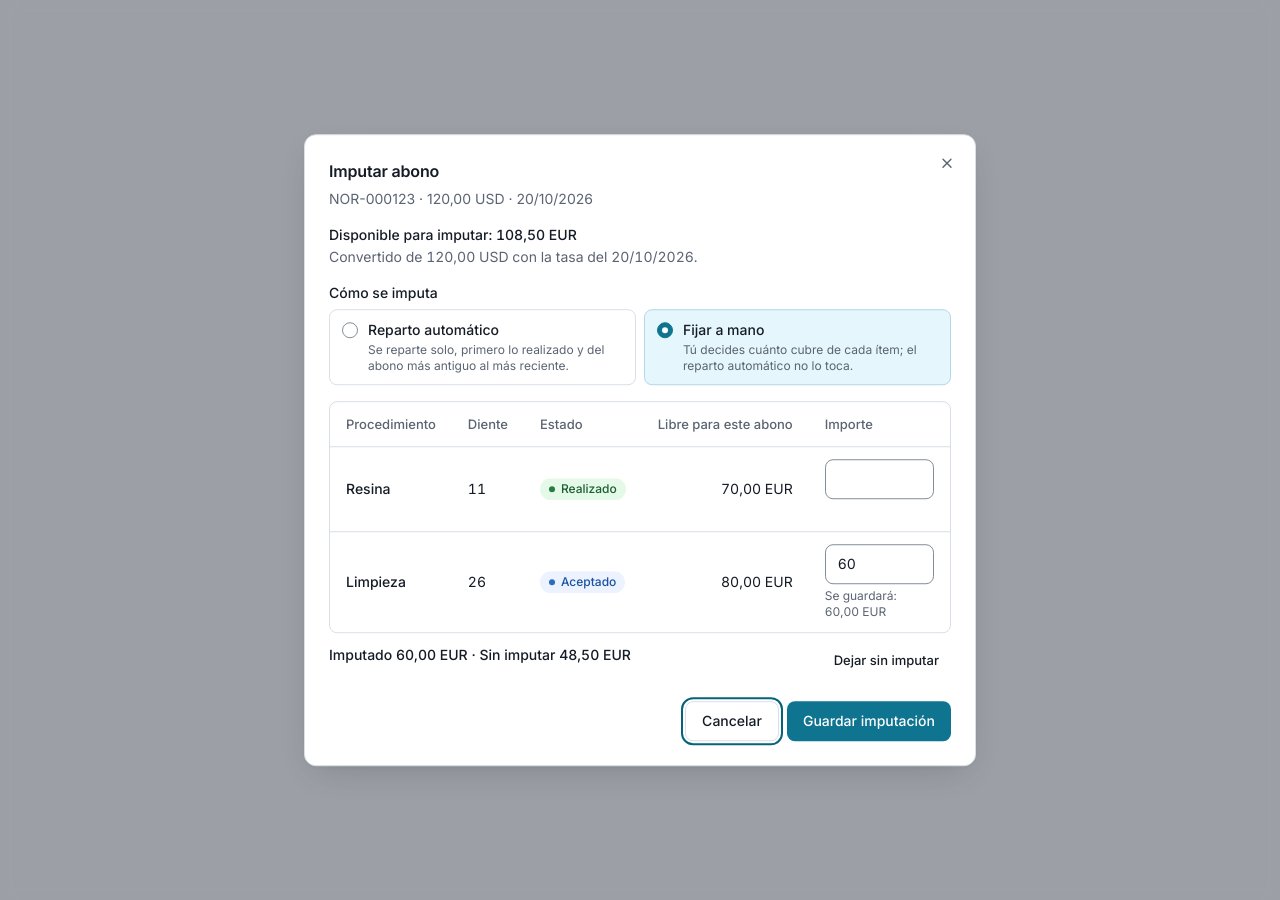
Scenario: ReallocatePaymentModal (DX-051) › a 409 whose reload brings the same allocation keeps its explanation
Click the button "Guardar imputación".
click(869, 721)  # box [787,701,951,741]
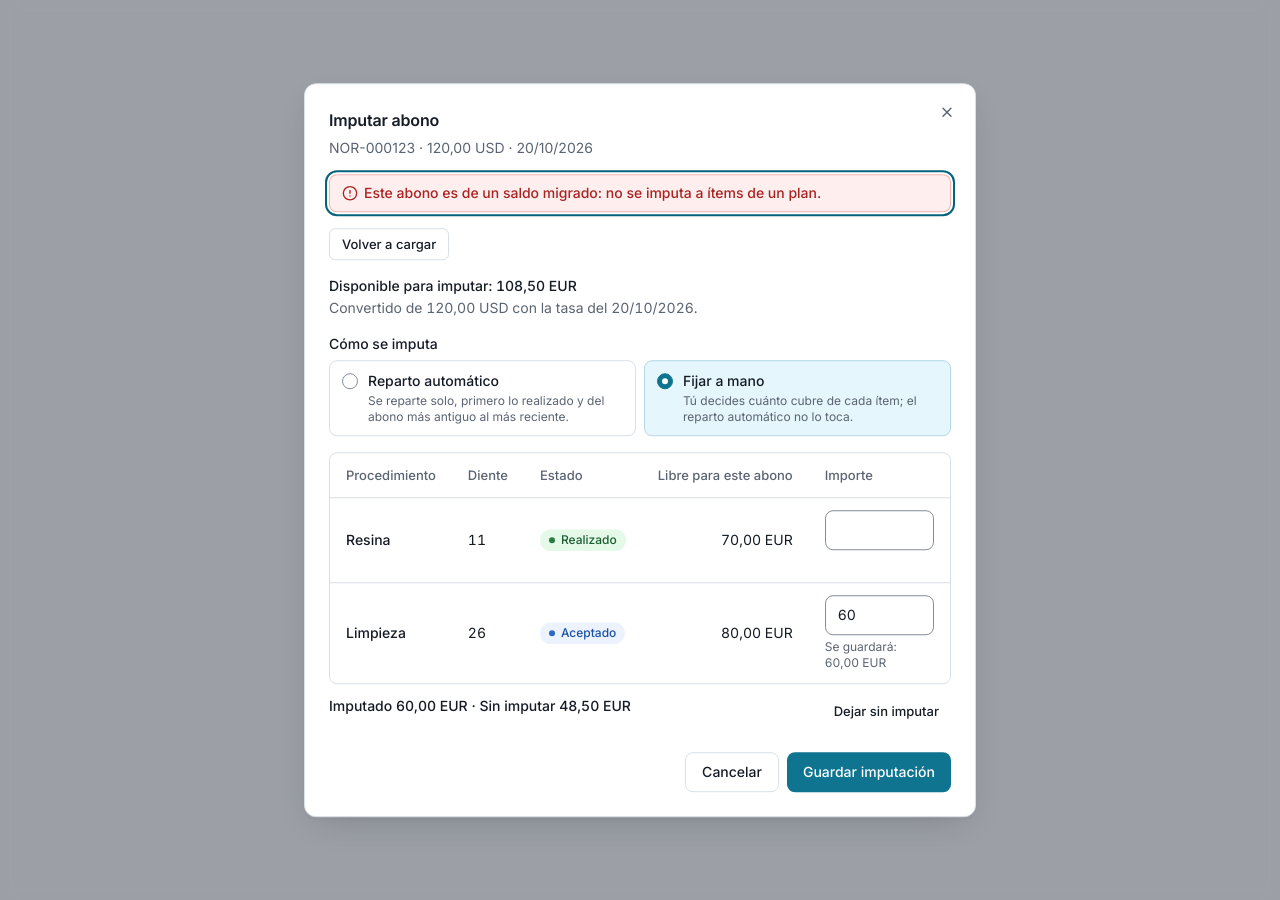
Click the button "Volver a cargar".
click(389, 244)  # box [329,228,449,260]
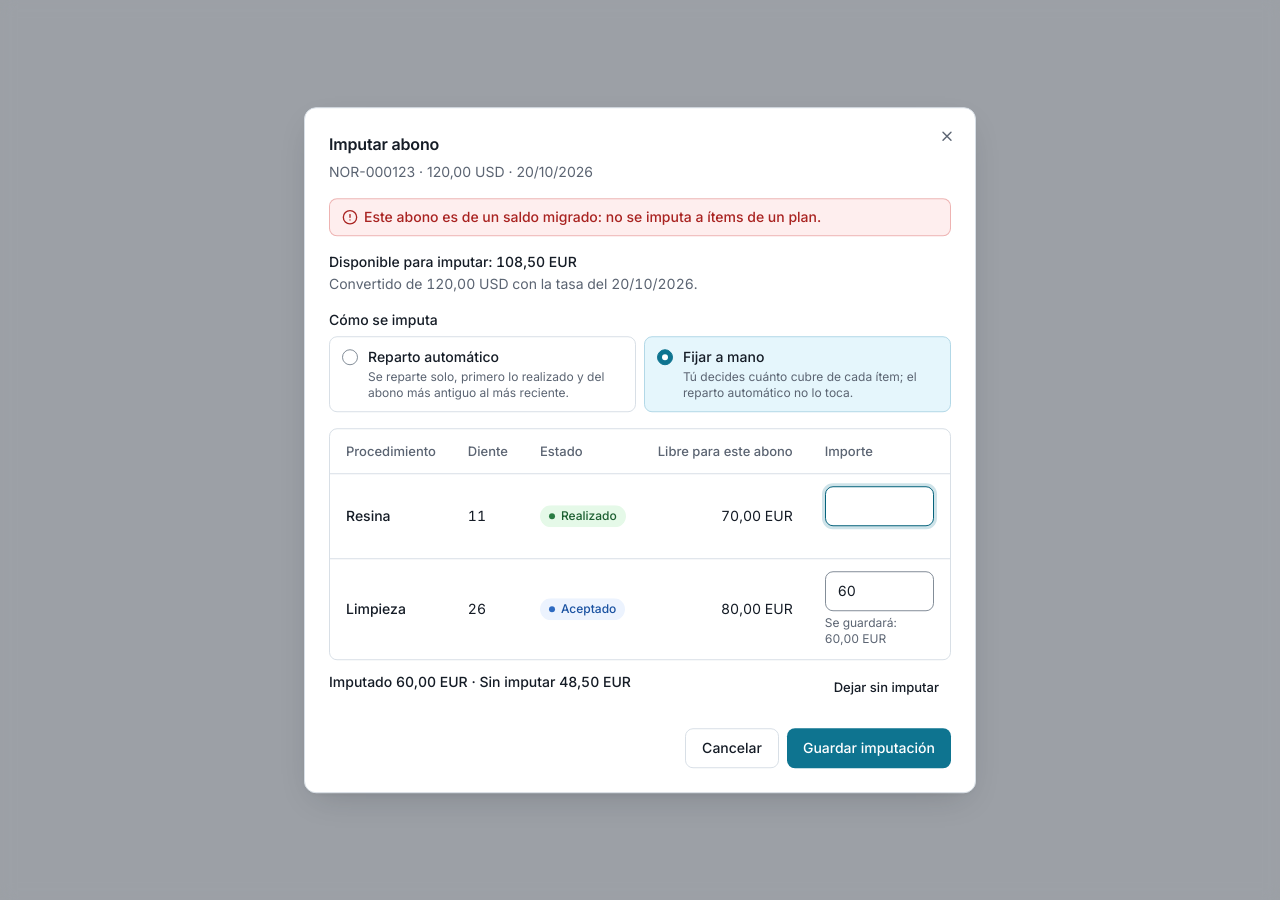
Expected: the text "Este abono es de un saldo migrado: no se imputa a ítems de un plan." is shown, [364,207,821,227]
Expected: the button "Volver a cargar" is gone
